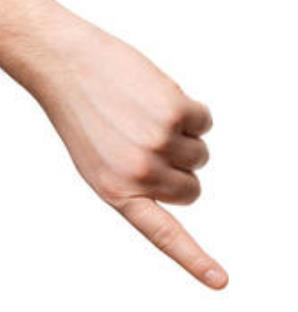up: (60, 69, 236, 294)
